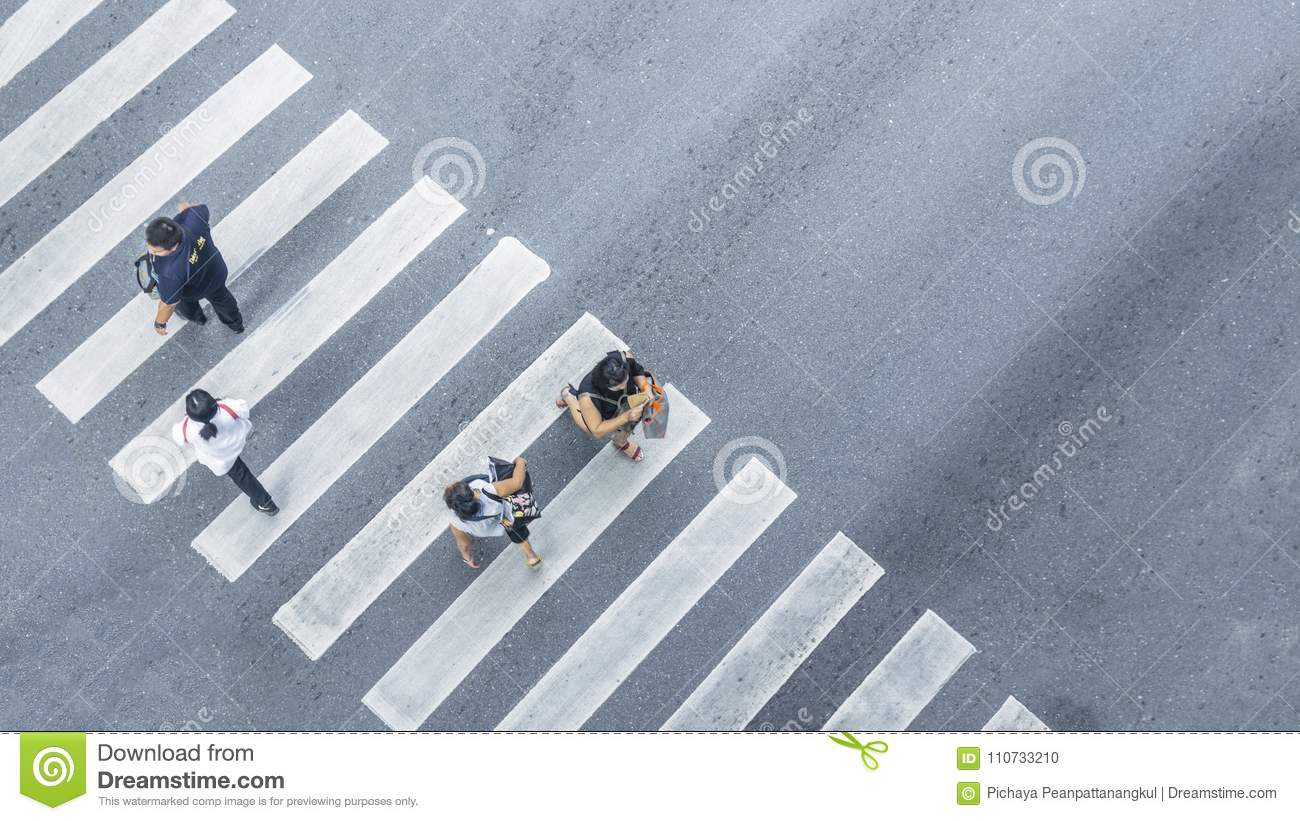person: (136, 197, 247, 341), (173, 384, 281, 515), (555, 348, 671, 467), (443, 454, 546, 573)
